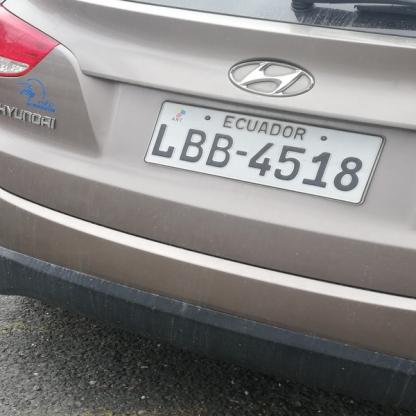Placa: (142, 92, 383, 204)
